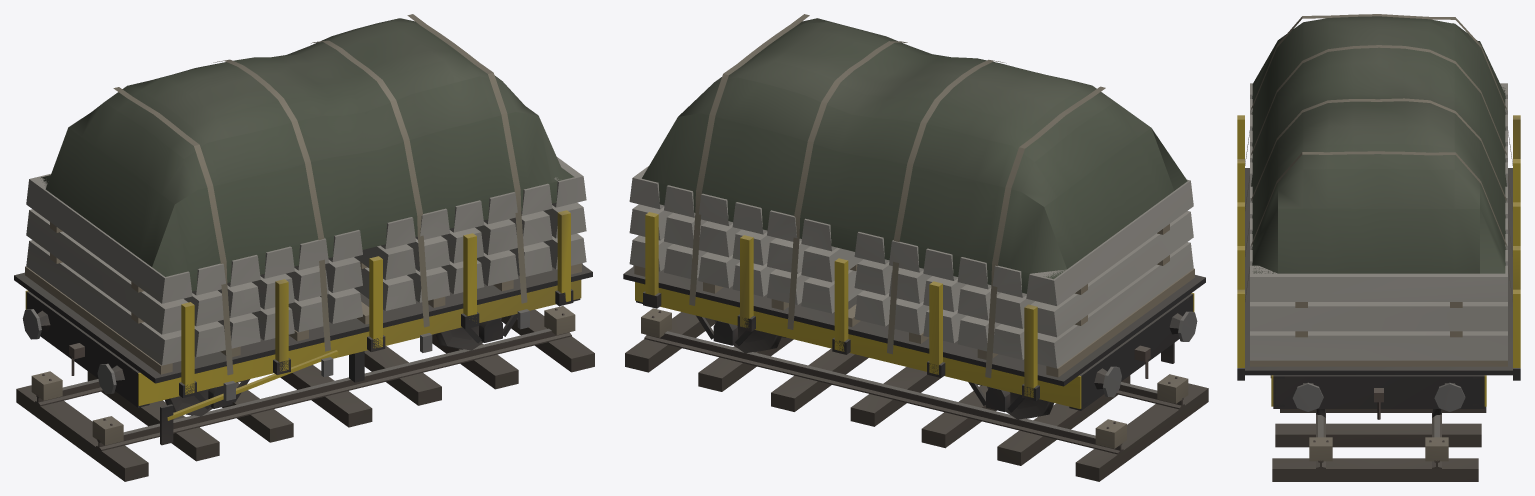
The model's file is engineering_wagon.glb.
The picture shows the model from 3 angles, left to right: view 1: azimuth 30°, elevation 25°; view 2: azimuth 150°, elevation 25°; view 3: azimuth 270°, elevation 25°; orthographic projection. The views are drawn at different scales.
Visible parts, largest first — view 1: engineering_wagon; view 2: engineering_wagon; view 3: engineering_wagon.
Part boxes in pixels (x1,y1,x2,y2): engineering_wagon: (14,14,594,481); engineering_wagon: (623,14,1208,481); engineering_wagon: (1237,14,1520,481).
Bounding box in the file's own units: 4 × 2.6 × 2.2.
